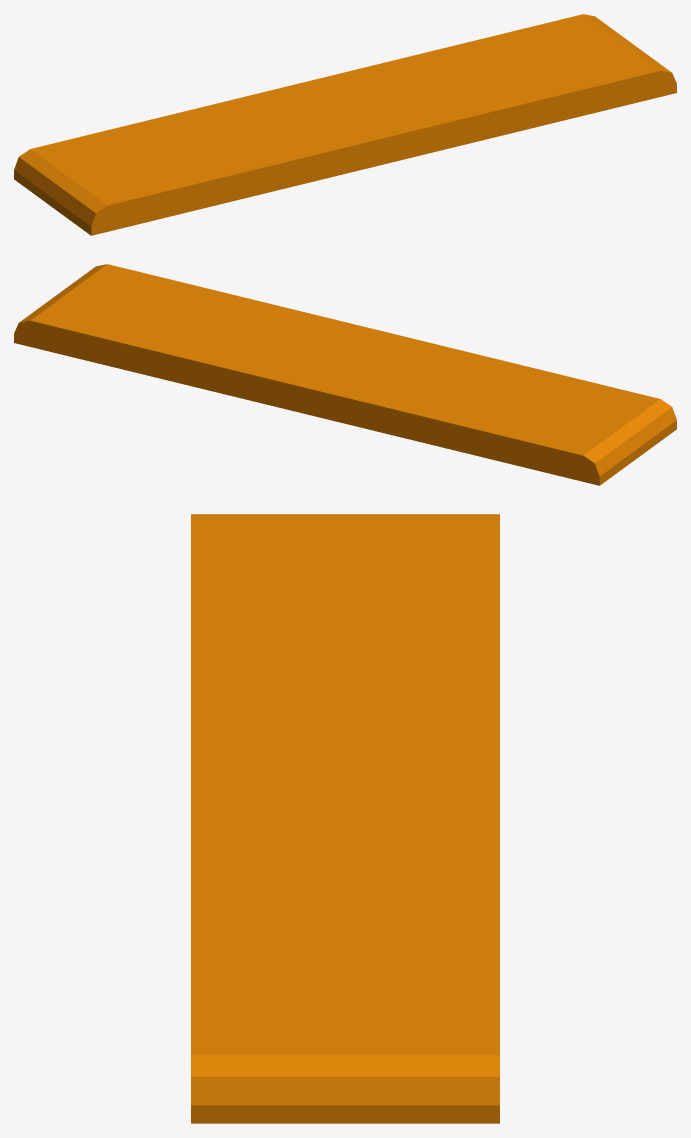
Rendered from StatsBarTop.glb.
The picture shows the model from 3 angles, top to bottom: view 1: azimuth 30°, elevation 25°; view 2: azimuth 150°, elevation 25°; view 3: azimuth 270°, elevation 25°; orthographic projection. The views are drawn at different scales.
Parts seen in each view (by area): view 1: Cube.001; view 2: Cube.001; view 3: Cube.001.
Part boxes in pixels (x1,y1,x2,y2): Cube.001: [14, 14, 676, 235]; Cube.001: [14, 264, 676, 485]; Cube.001: [191, 514, 499, 1123].
Bounding box in the file's own units: 1.4 × 0.06 × 0.32.
